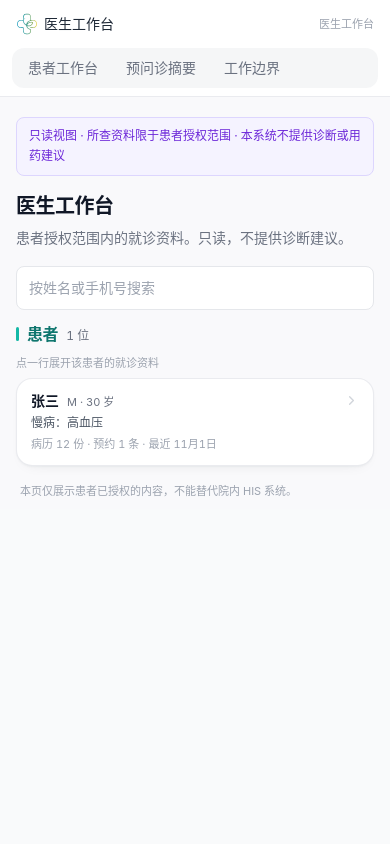
it: 医生工作台：病历归属与口径 › 未知预约状态原样显示，不猜成「已完成」
Click the button "张三 M · 30 岁 慢病：高血压 病历 12 份 · 预约 1 条 · 最近 11月1日".
click(91, 402)  # box [17,379,373,465]
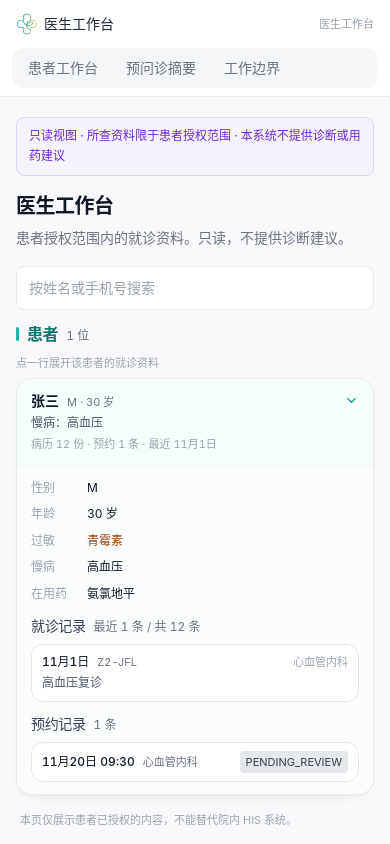
Result: the text "PENDING_REVIEW" is shown at [240,751,348,773]
